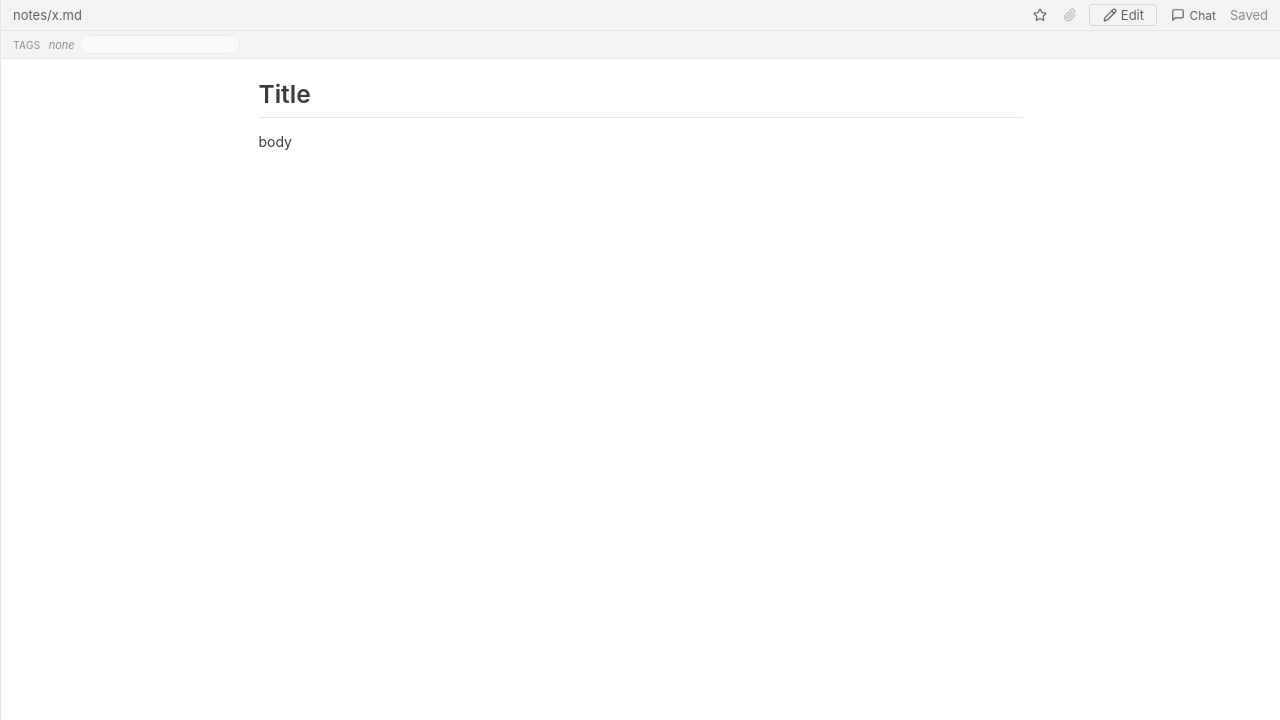
Test: EditorPanel › Edit and Done switch between reading and editing in Calendar mode
Expected: the heading "Title" is shown, [258,79,1022,118]
Click the button with test id "editor-mode-toggle": {"x": 1123, "y": 15} [1089,4,1157,26]
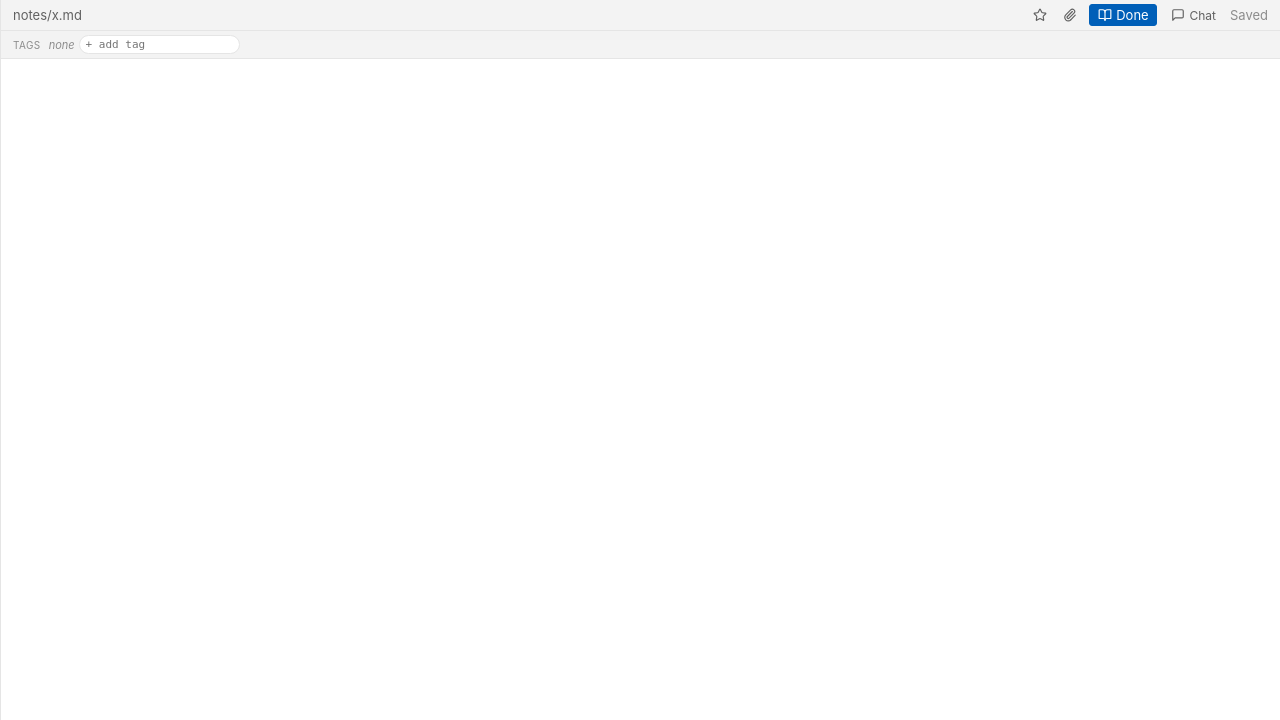
Now the button with test id "editor-mode-toggle" reads "Done"
Now the element with test id "markdown-viewer" is gone
Now the element with test id "editor-source" is shown
Click the button with aria-label "Done editing": {"x": 1123, "y": 15} [1089,4,1157,26]
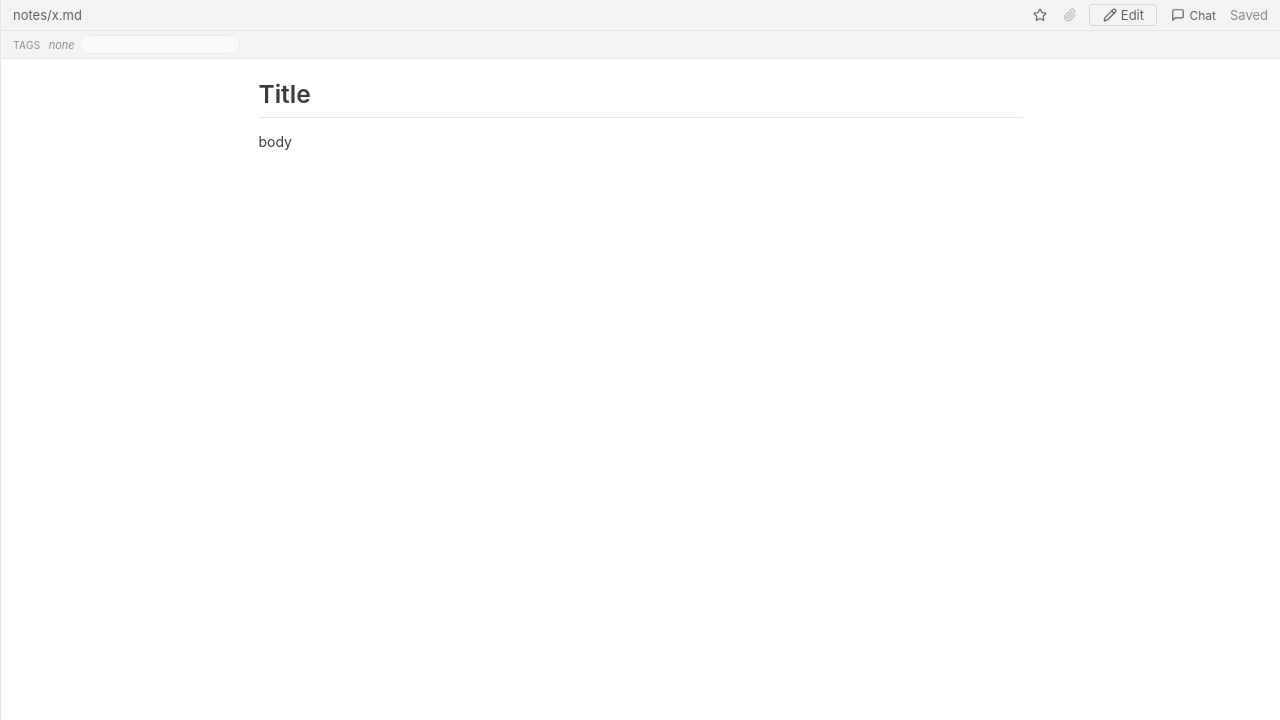
Now the element with test id "markdown-viewer" is shown
Now the element with test id "editor-source" is gone
